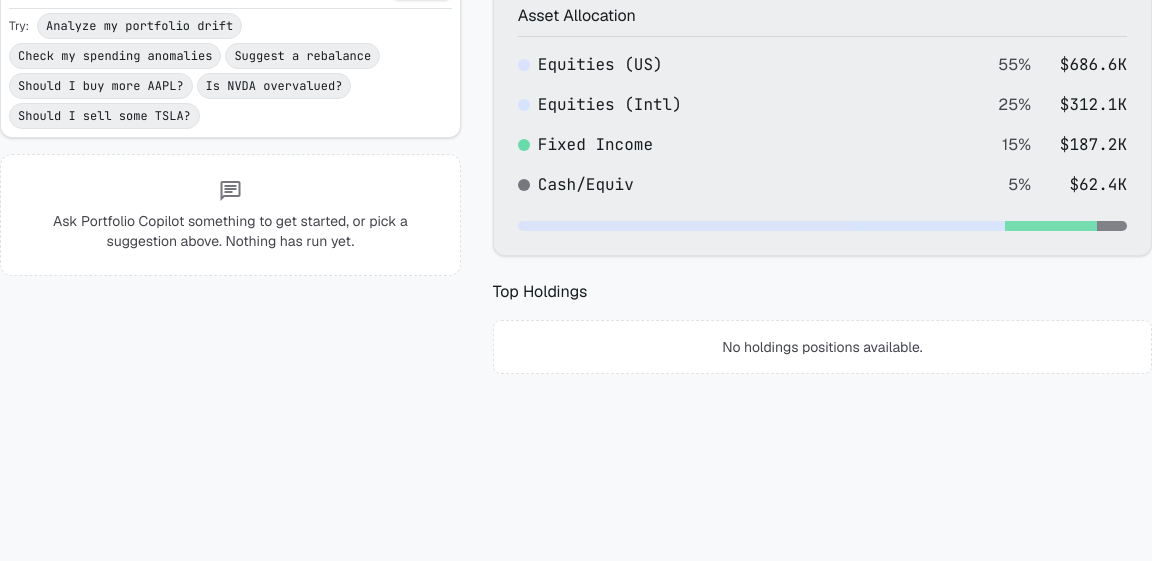
Frontend Views › DashboardView allows approving actions and resumes plan via apiService.streamPlanResume
What coordinates should you click on to do the following:
click the button with test id "example-prompt" showing "Analyze my portfolio drift"
I would click on:
 (140, 26)
Its box is [37,13,242,39].
(page scrolled)
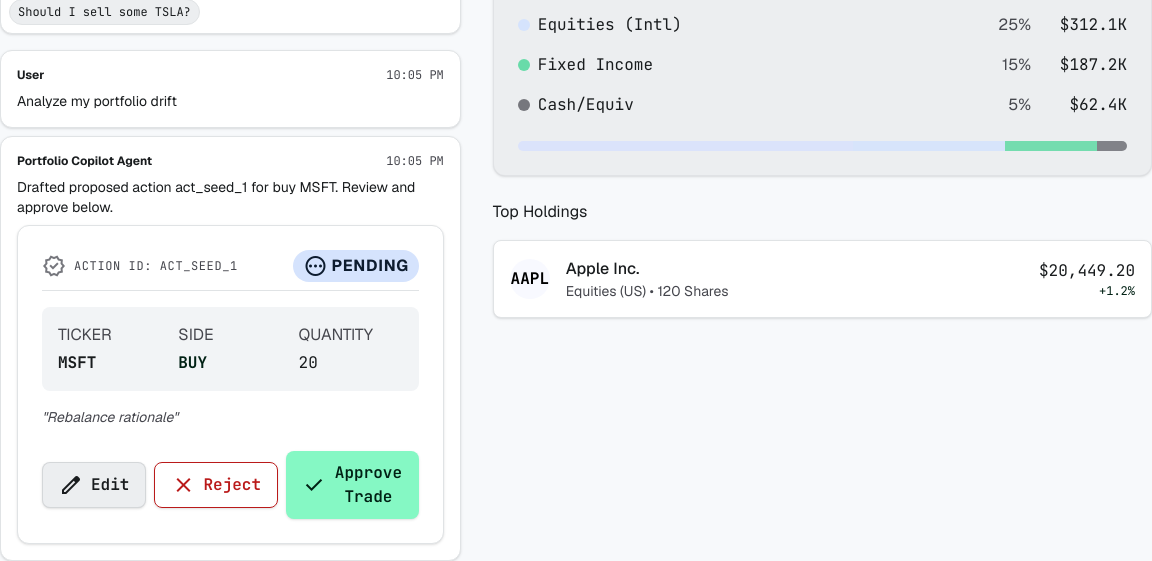
Expected: the element with test id "approval-card" is shown, [17,225,444,544]
What coordinates should you click on to do the following:
click the button with test id "btn-approve"
I would click on:
 (352, 485)
Its box is [286,451,419,519].
(page scrolled)
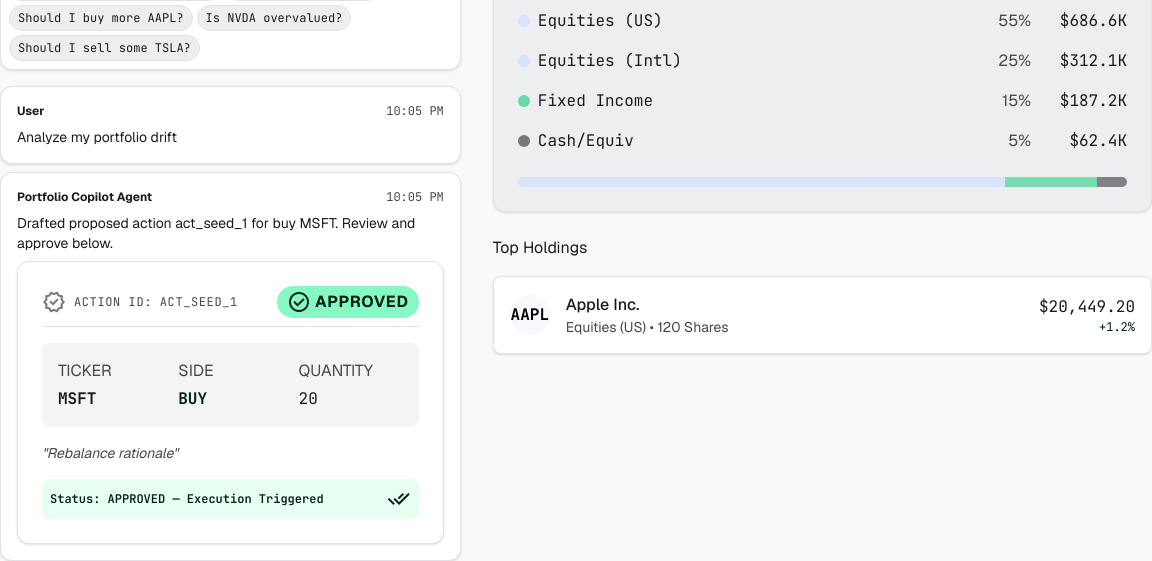
Expected: the text "Status: APPROVED — Execution Triggered" is shown, [50,491,324,507]
